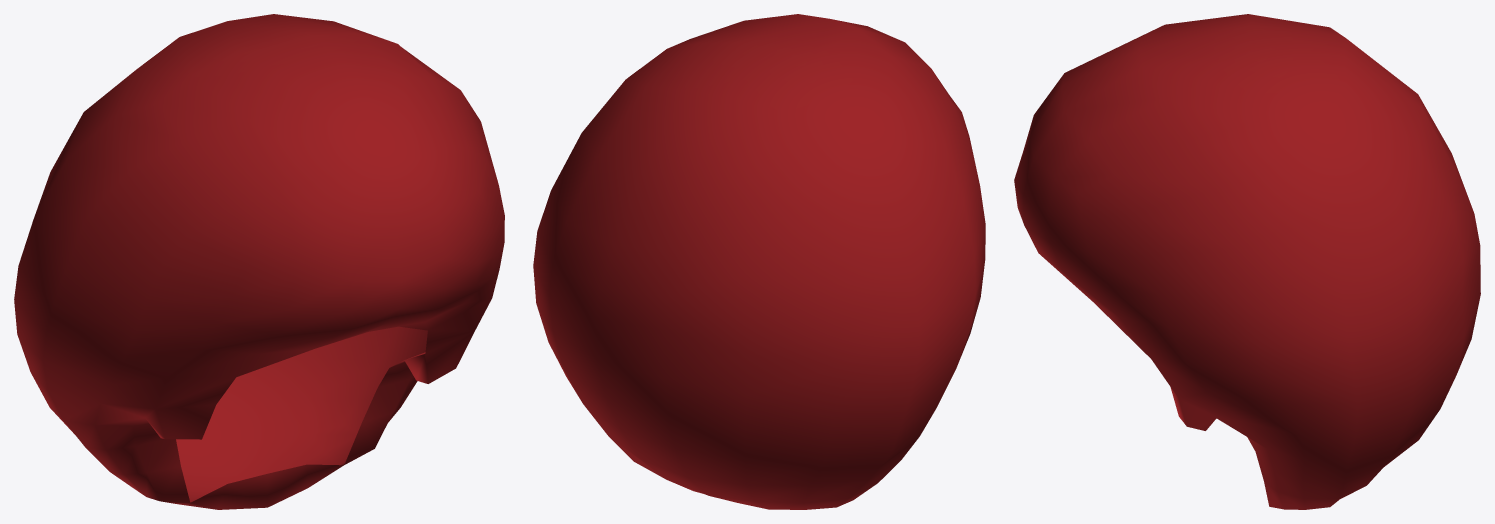
Rendered from NPC_RedHair1.gltf.
3 views of the same model, side by side, from view 1: azimuth 30°, elevation 25°; view 2: azimuth 150°, elevation 25°; view 3: azimuth 270°, elevation 25° (orthographic). The views are drawn at different scales.
Parts seen in each view (by area): view 1: NPC_RedHair.001; view 2: NPC_RedHair.001; view 3: NPC_RedHair.001.
Part boxes in pixels (x1=…): NPC_RedHair.001: x1=14, y1=14, x2=504, y2=509; NPC_RedHair.001: x1=533, y1=14, x2=985, y2=509; NPC_RedHair.001: x1=1014, y1=14, x2=1480, y2=509.
Size of the model in its own units: 0.7566 by 0.7696 by 0.7317.
Materials: 1 (1 with a texture image).
